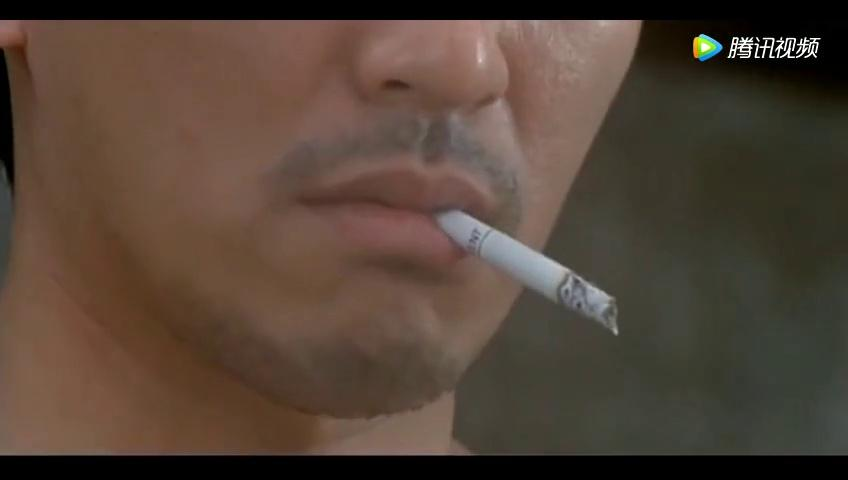smoke: (432, 206, 625, 338)
